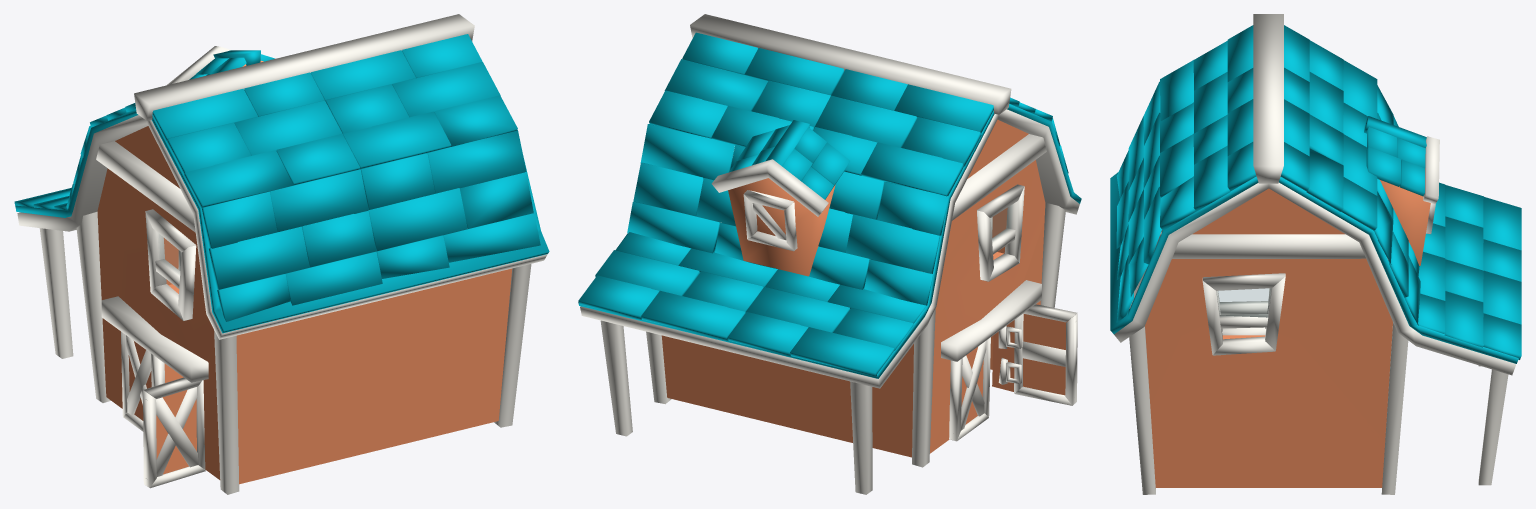
The model's file is Barn(NoUsable).fbx.
The picture shows the model from 3 angles, left to right: view 1: azimuth 30°, elevation 25°; view 2: azimuth 150°, elevation 25°; view 3: azimuth 270°, elevation 25°; orthographic projection. The views are drawn at different scales.
Visible parts, largest first — view 1: Barn7; view 2: Barn7; view 3: Barn7.
Part boxes in pixels (left/top/right/bottom): Barn7: left=14, top=14, right=549, bottom=494; Barn7: left=578, top=14, right=1081, bottom=494; Barn7: left=1110, top=14, right=1521, bottom=494.
Bounding box in the file's own units: 1209 × 1126 × 1241.
